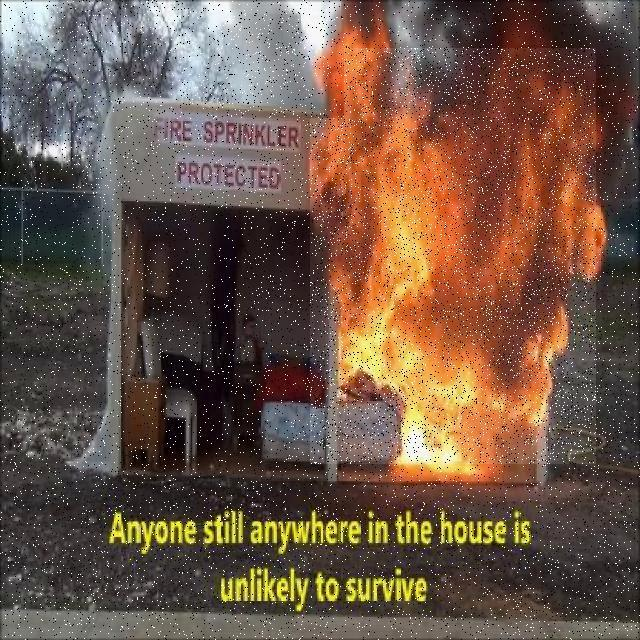Fire: (307, 5, 610, 482)
